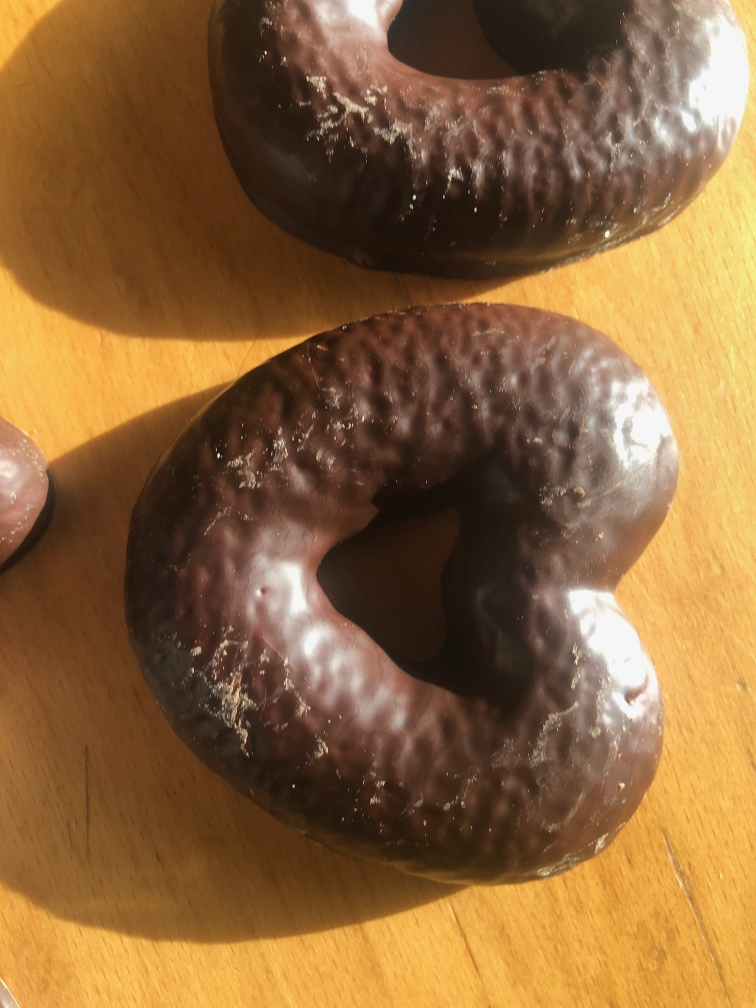heart: (120, 296, 683, 888)
